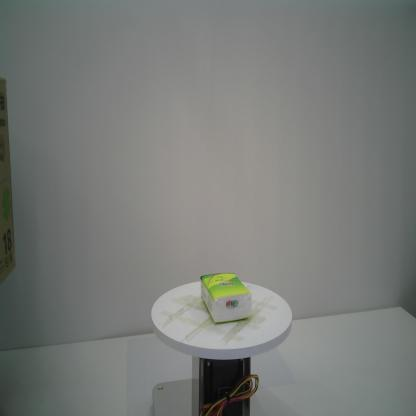Tissue: (199, 270, 255, 325)
